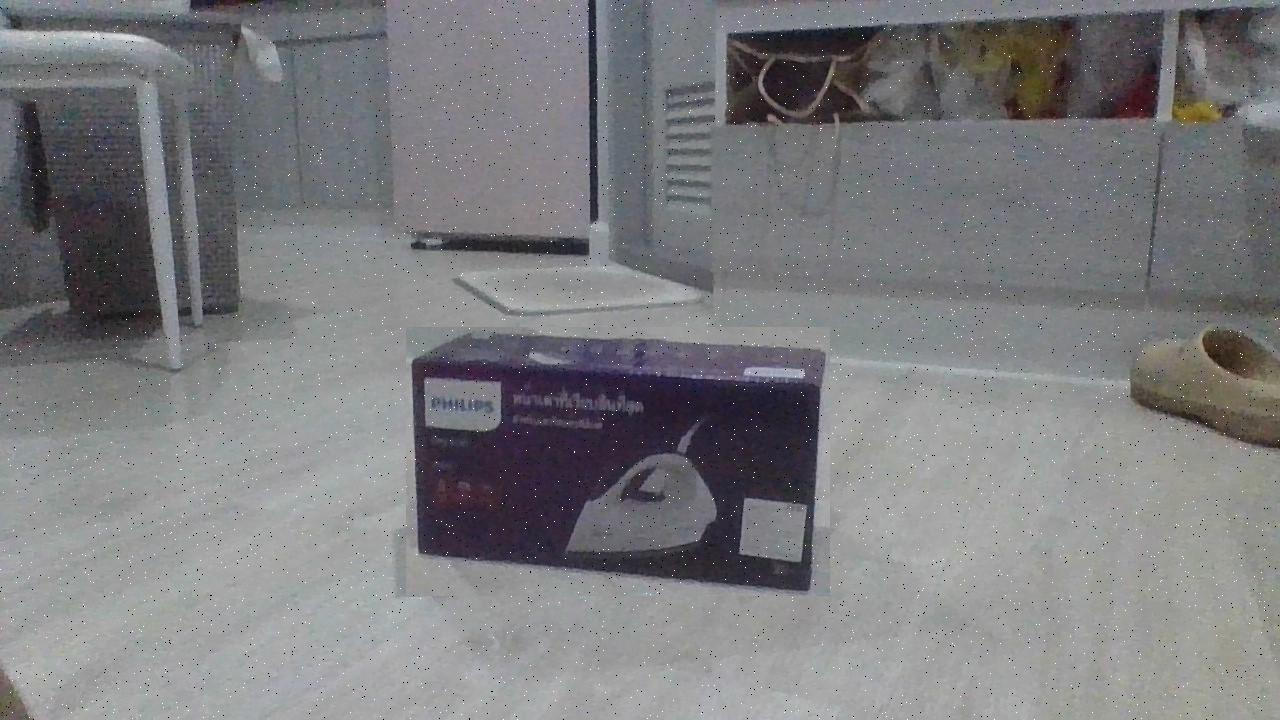IRON: (406, 327, 830, 596)
